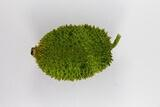spiny groud: (30, 22, 121, 81)
